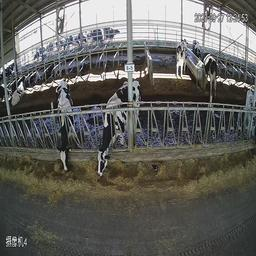cow: (97, 75, 143, 178), (53, 80, 78, 173), (200, 52, 218, 94), (175, 37, 188, 79), (11, 81, 27, 106)
